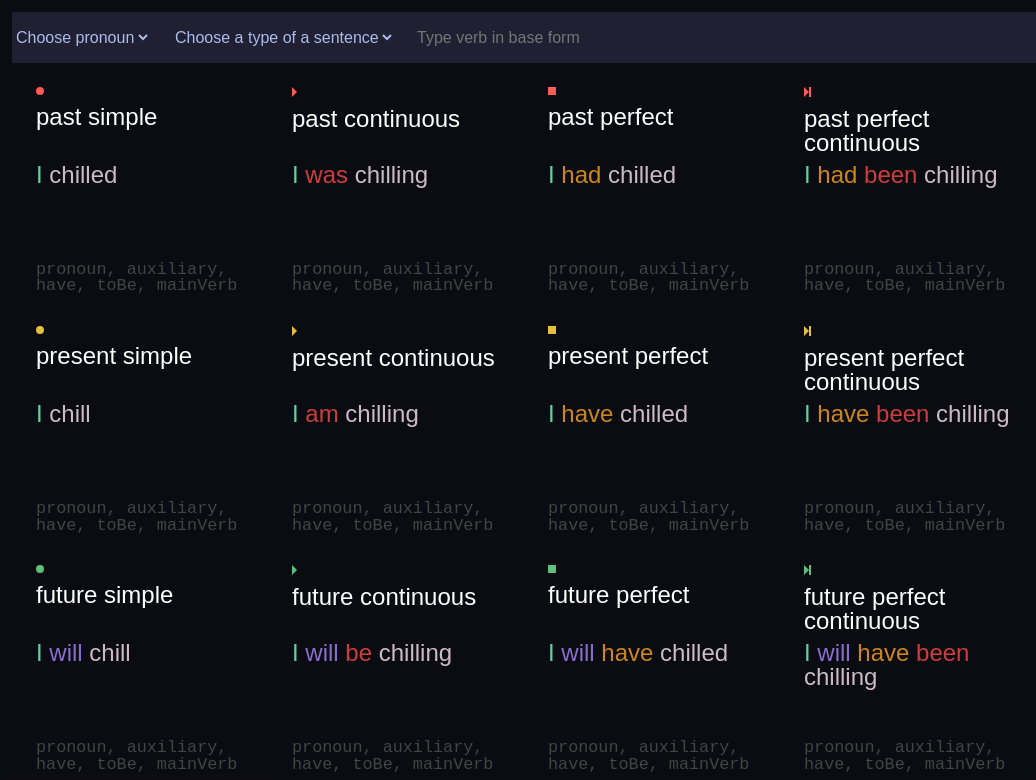
Test: Adjective phrases are correct › 2nd person
Select "you" in the 1st dropdown with class "select" at [82, 37], box x1=12 y1=12 x2=151 y2=62
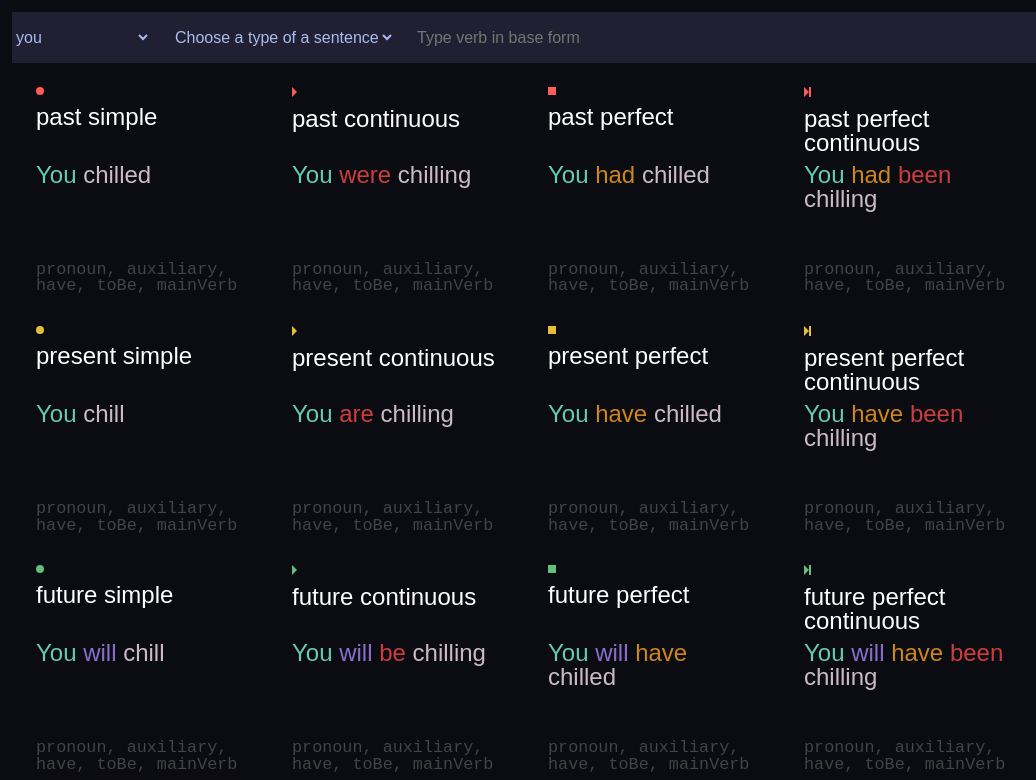
Check: the element showing "You chilled" is shown, box x1=12 y1=62 x2=268 y2=302
Check: the element showing "You were chilling" is shown, box x1=268 y1=62 x2=524 y2=302
Check: the element showing "You had chilled" is shown, box x1=524 y1=62 x2=780 y2=302
